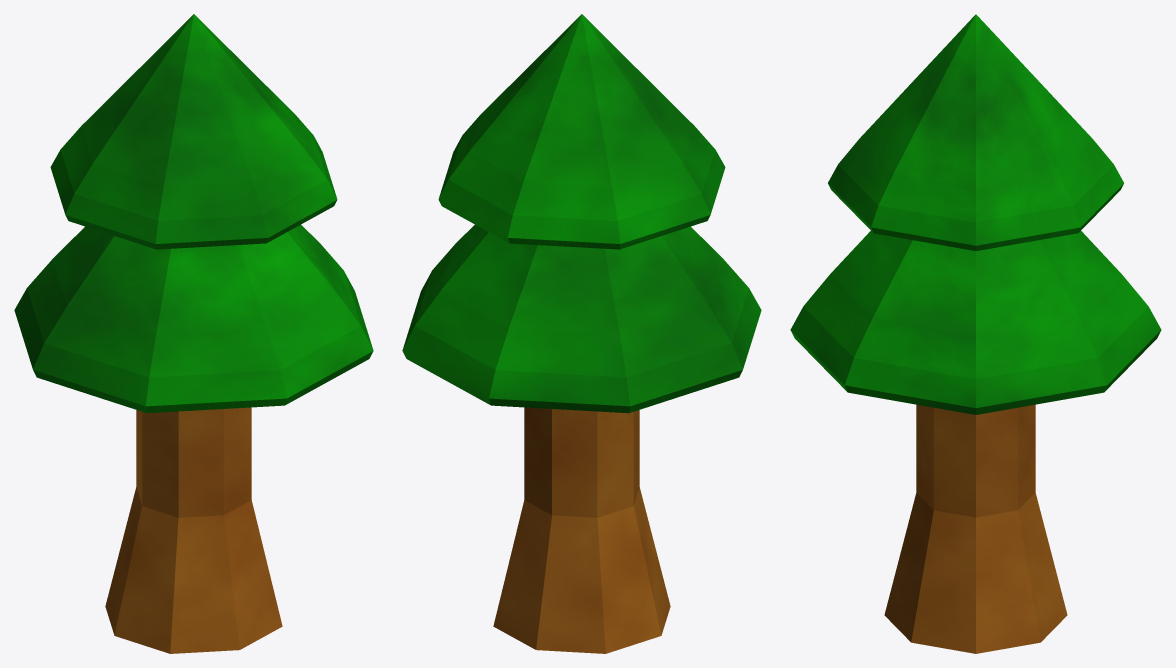
File: tree5.fbx
3 renders of one model, left to right at view 1: azimuth 30°, elevation 25°; view 2: azimuth 150°, elevation 25°; view 3: azimuth 270°, elevation 25°, orthographic.
Parts seen in each view (by area): view 1: Zylinder_1; view 2: Zylinder_1; view 3: Zylinder_1.
Boxes of the visible parts, x1,y1,x2,y2 form: Zylinder_1: (14, 14, 373, 653); Zylinder_1: (402, 14, 761, 653); Zylinder_1: (790, 14, 1161, 653).
Bounding box in the file's own units: 374 × 668 × 374.
